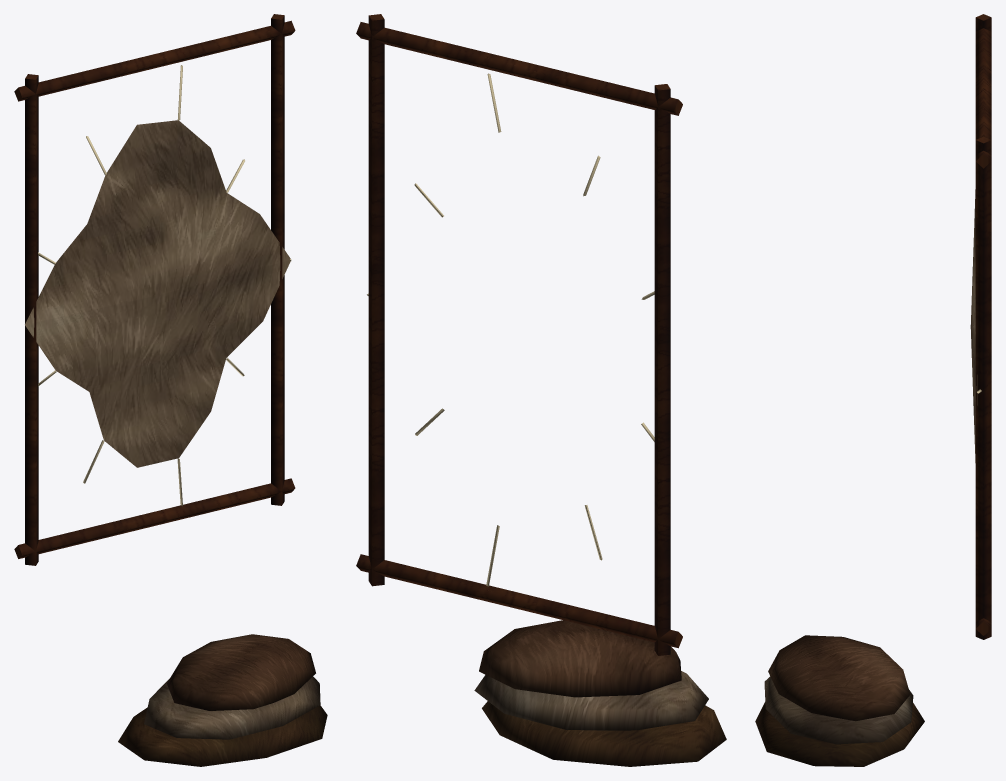
File: interior_pelts.glb
The picture shows the model from 3 angles, left to right: view 1: azimuth 30°, elevation 25°; view 2: azimuth 150°, elevation 25°; view 3: azimuth 270°, elevation 25°; orthographic projection. The views are drawn at different scales.
Visible parts, largest first — view 1: interior_pelts; view 2: interior_pelts; view 3: interior_pelts.
Boxes of the visible parts, x1=… form: interior_pelts: x1=14, y1=14, x2=327, y2=766; interior_pelts: x1=356, y1=14, x2=726, y2=766; interior_pelts: x1=755, y1=14, x2=991, y2=766.
Bounding box in the file's own units: 1 × 2.21 × 0.7333.
3 materials, 2 textured.
